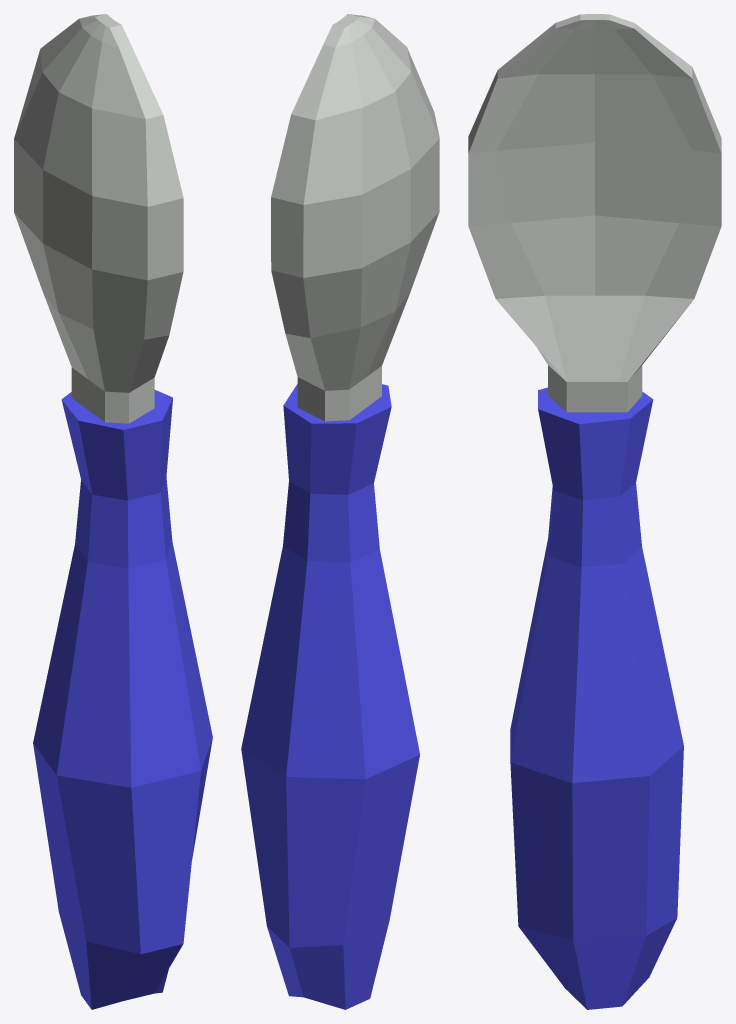
File: spoon-blue.fbx
3 renders of one model, left to right at view 1: azimuth 30°, elevation 25°; view 2: azimuth 150°, elevation 25°; view 3: azimuth 270°, elevation 25°, orthographic.
Parts seen in each view (by area): view 1: spoon.002; view 2: spoon.002; view 3: spoon.002.
Boxes of the visible parts, box(x1,y1,x2,y2) form: spoon.002: box(14, 14, 212, 1009); spoon.002: box(241, 14, 439, 1009); spoon.002: box(468, 14, 721, 1009).
Size of the model in its own units: 144 by 850 by 202.
